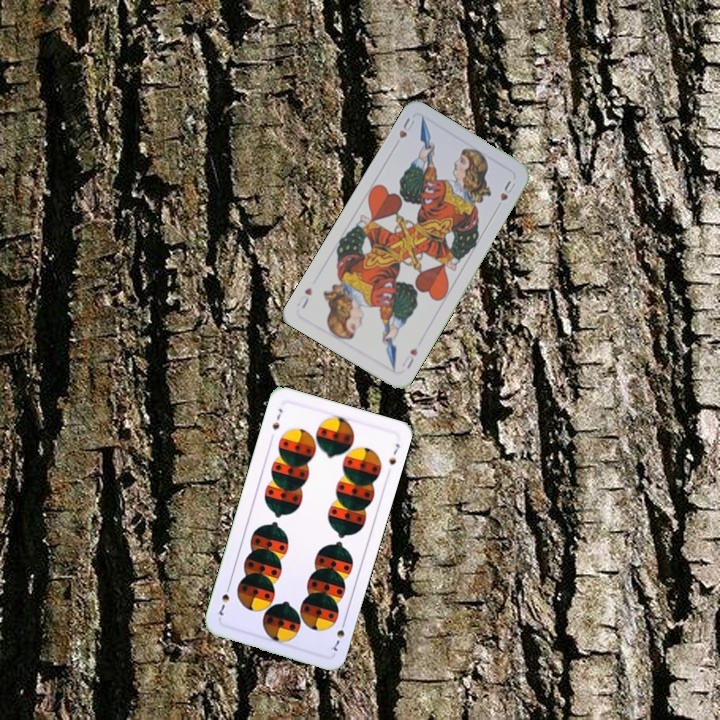HU: (395, 113, 417, 141), (398, 344, 420, 371)
S7: (326, 616, 348, 656), (268, 404, 285, 433)
